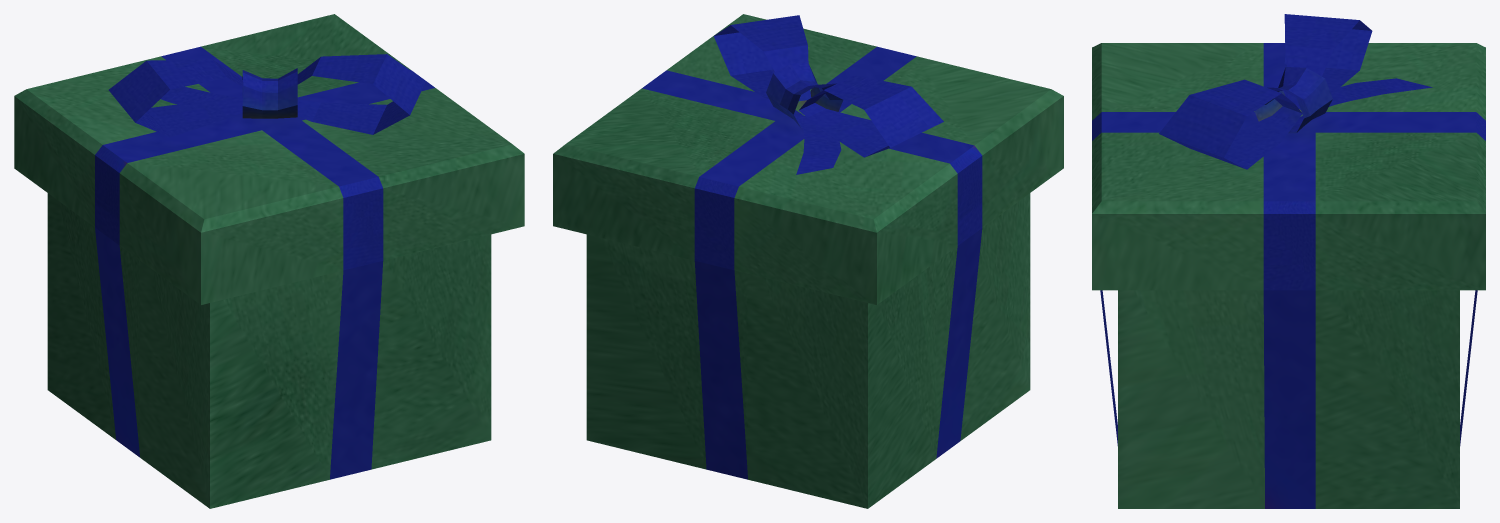
The model's file is gift2022_green.glb.
The picture shows the model from 3 angles, left to right: view 1: azimuth 30°, elevation 25°; view 2: azimuth 150°, elevation 25°; view 3: azimuth 270°, elevation 25°; orthographic projection. The views are drawn at different scales.
Parts seen in each view (by area): view 1: Gift; view 2: Gift; view 3: Gift.
Boxes of the visible parts, bbox=[...] form: Gift: bbox=[14, 14, 524, 508]; Gift: bbox=[553, 14, 1063, 508]; Gift: bbox=[1092, 14, 1485, 508].
Size of the model in its own units: 0.3718 by 0.3861 by 0.3718.
1 material, 1 textured.
